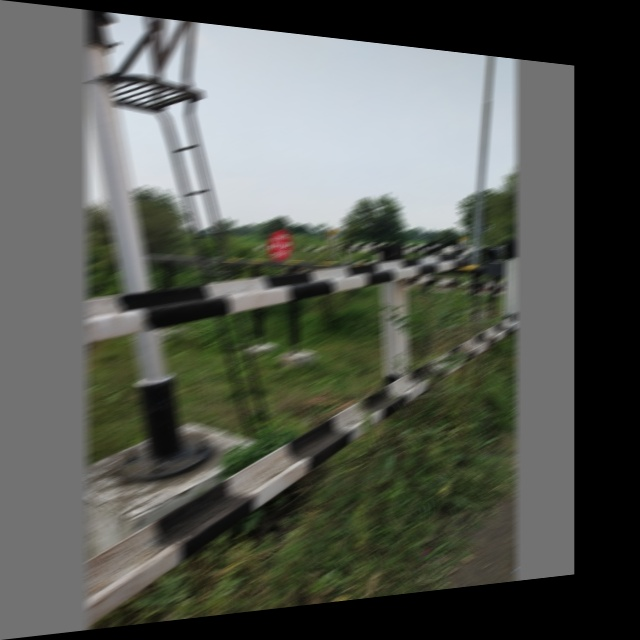Stop: (268, 229, 291, 261)
